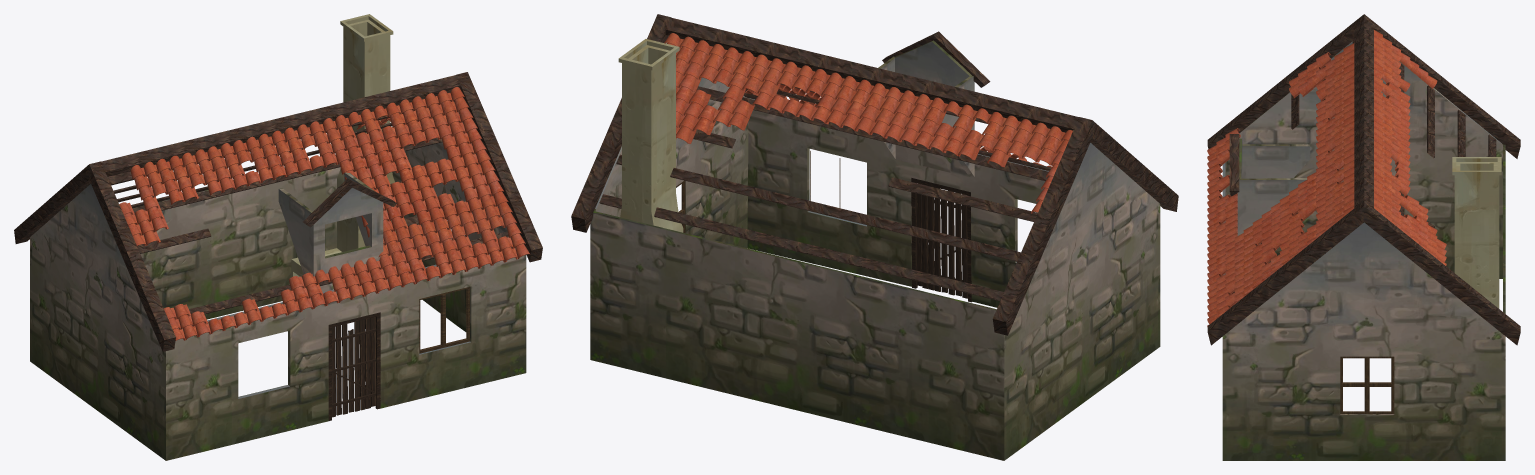
File: HouseForest.fbx
3 renders of one model, left to right at view 1: azimuth 30°, elevation 25°; view 2: azimuth 150°, elevation 25°; view 3: azimuth 270°, elevation 25°, orthographic. The views are drawn at different scales.
Parts seen in each view (by area): view 1: house forest, Telhas, telhado.001, Door, Moldura Door, janela 2; view 2: house forest, telhado.001, Telhas, Door, Moldura Door; view 3: house forest, Telhas, telhado.001, janela 1.
Part boxes in pixels (x1,y1,x2,y2): house forest: (30,14,526,460); Telhas: (119,87,530,340); telhado.001: (14,72,542,351); Door: (332,317,376,417); Moldura Door: (328,312,380,420); janela 2: (419,287,469,353); house forest: (590,39,1160,460); telhado.001: (571,14,1178,335); Telhas: (664,33,1072,213); Door: (915,183,967,298); Moldura Door: (911,178,972,302); house forest: (1222,41,1505,460); Telhas: (1207,30,1446,326); telhado.001: (1207,14,1520,345); janela 1: (1340,356,1394,414).
Size of the model in its own units: 1233 by 832 by 850.
